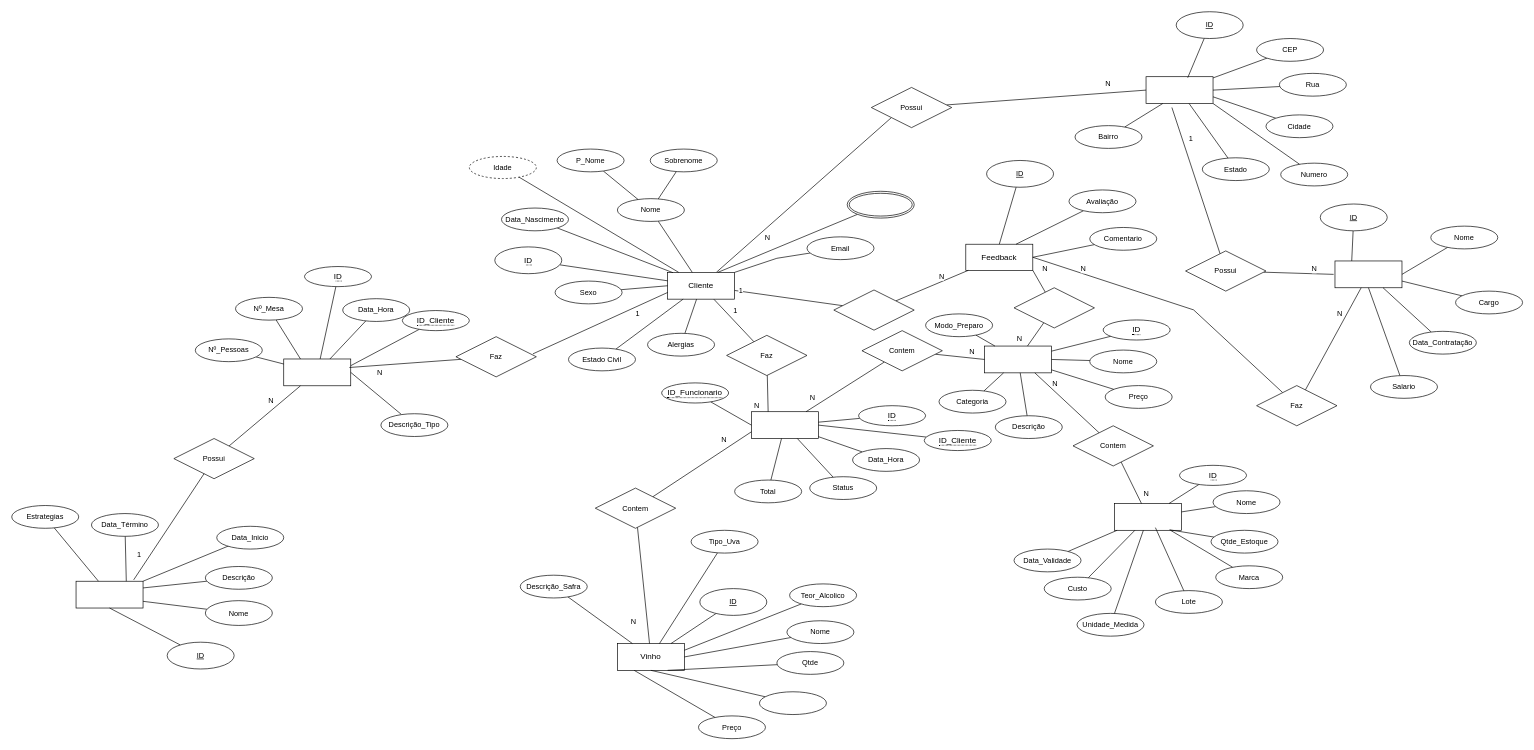
The diagram is 1534 pixels wide and 750 high, and some of its shapes have lost their labels. Here are the shapes that lost their labels. From the top down, the centre of each, then its label:
the point at 1179,90: Endereço
the point at 880,204: Telefone
the point at 1368,274: Funcionario
the point at 873,309: Realiza
the point at 1053,307: Recebe
the point at 317,372: Reserva
the point at 1018,359: Prato
the point at 784,425: Pedido
the point at 1148,516: Ingrediente
the point at 109,594: Evento/Promoção
the point at 792,703: Ano
